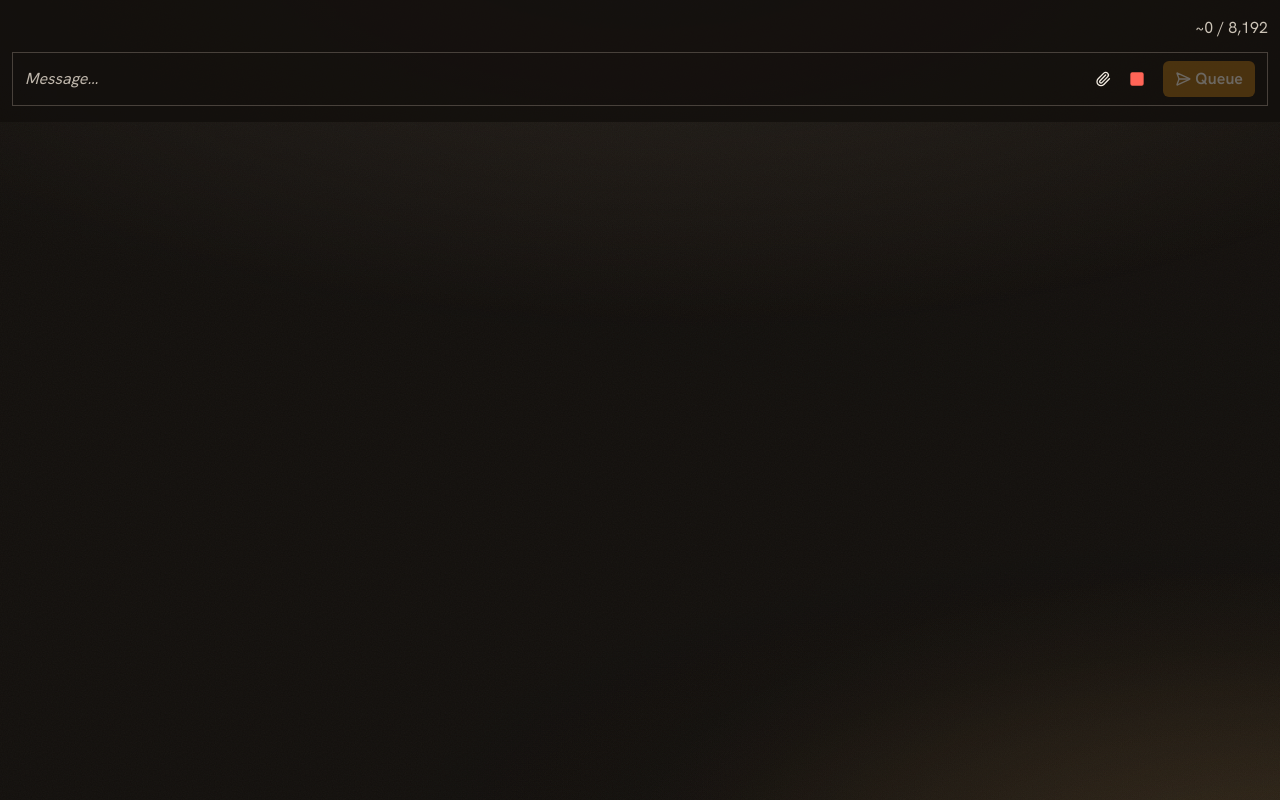
Test: Composer message queue (streaming submit) › supports at least one queued message via a small FIFO queue (two messages queue in order)
Type "first" into the text box labelled "Message" at x=556, y=79, box [25, 59, 1087, 99]
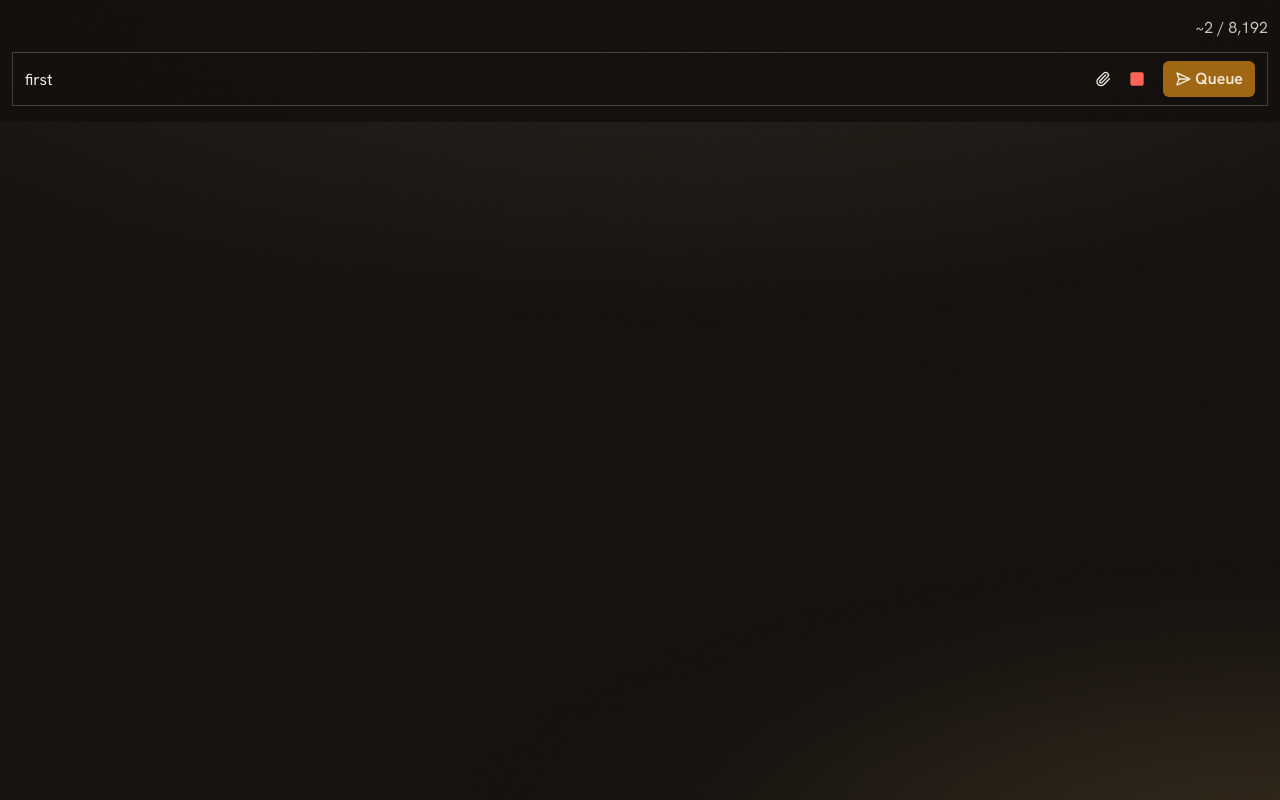
Press Enter in the text box named "Message", box [25, 60, 1087, 98]
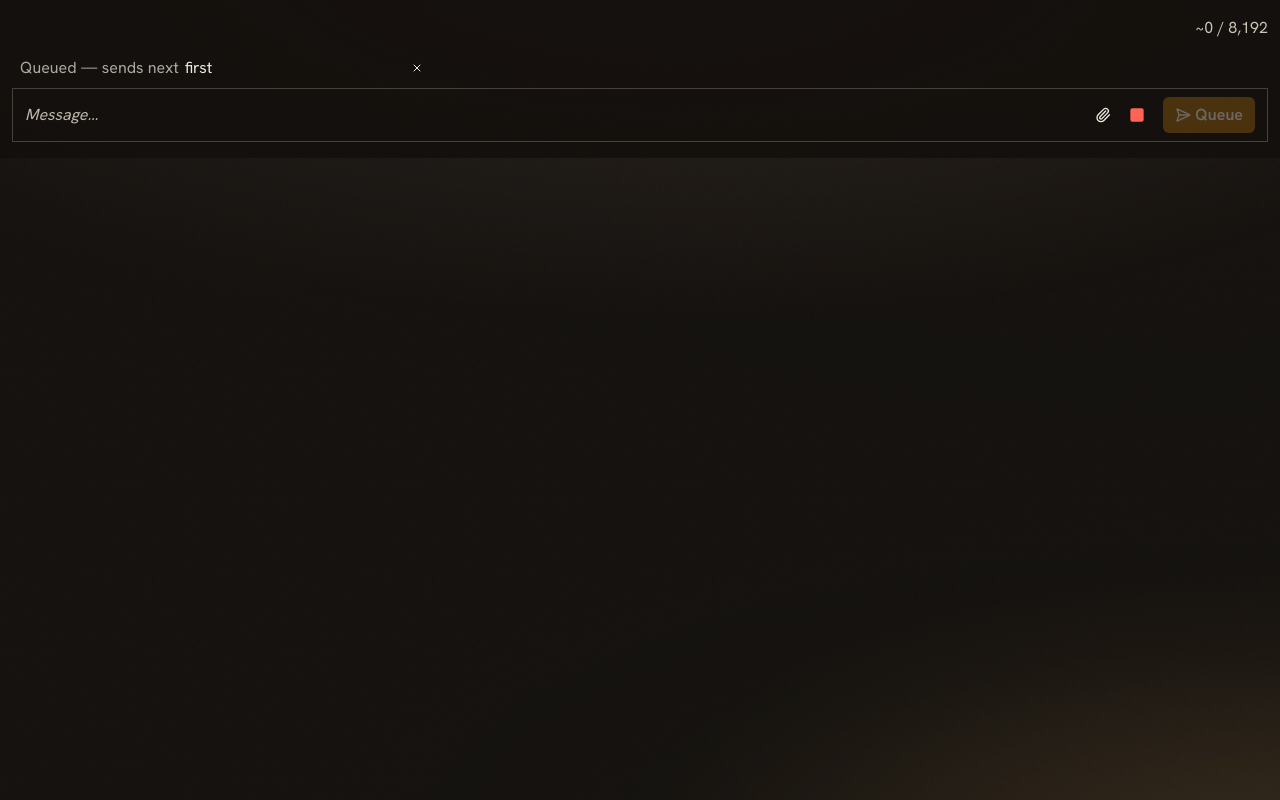
Type "second" into the text box labelled "Message" at x=556, y=115, box [25, 95, 1087, 135]
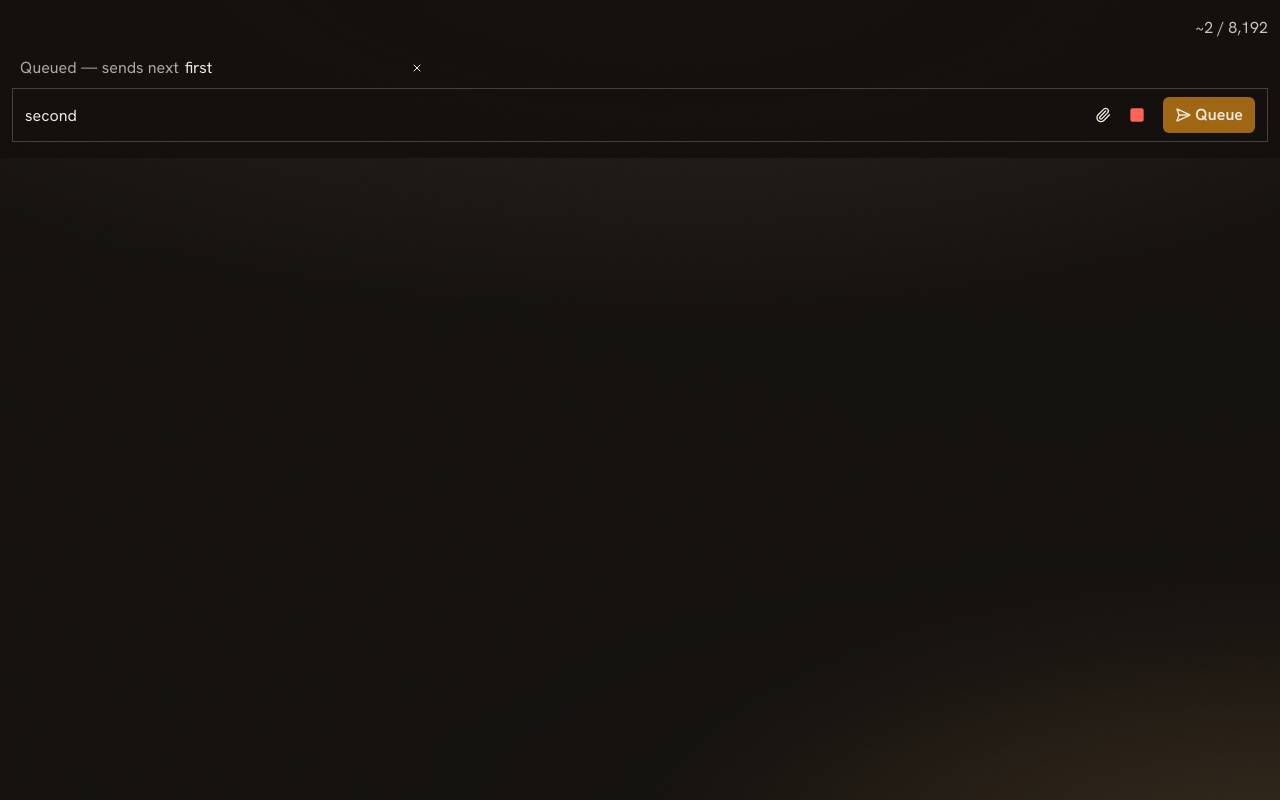
Press Enter in the text box named "Message", box [25, 96, 1087, 134]
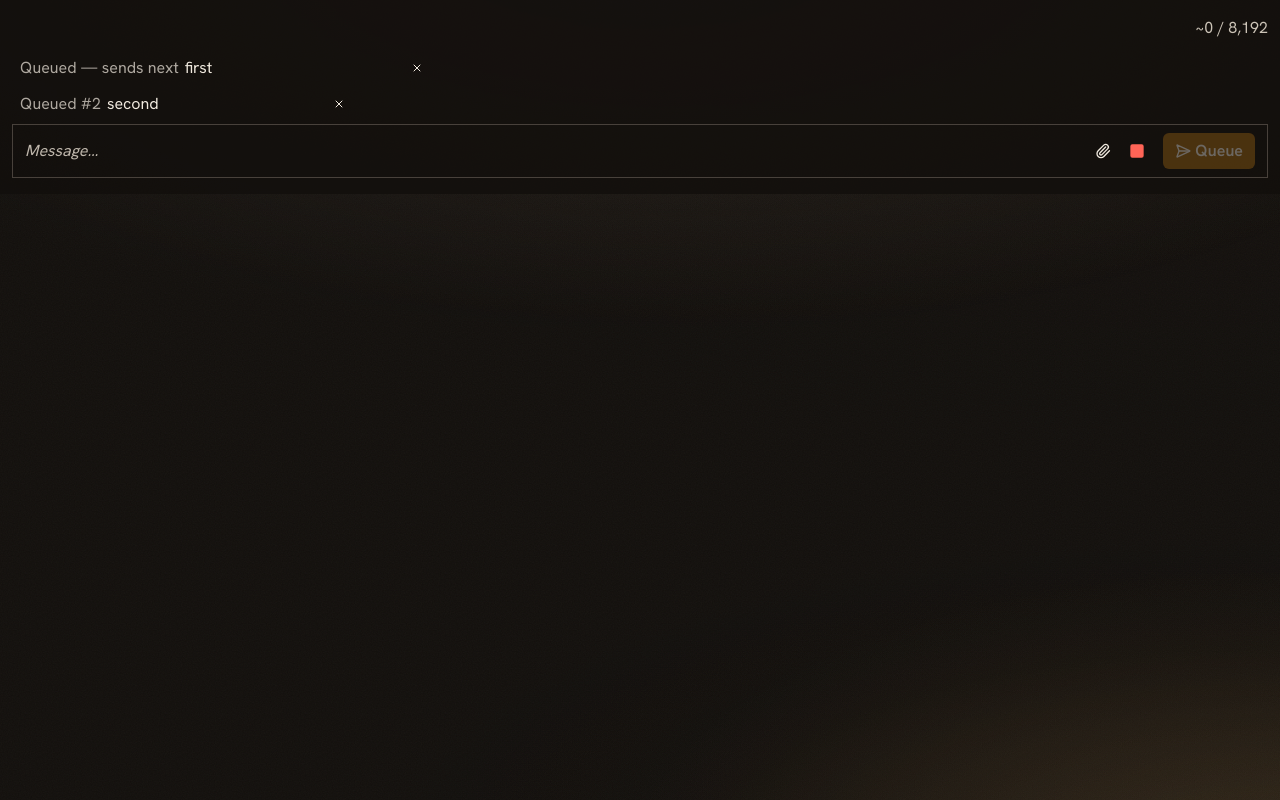
Result: the list item with test id "composer-queue-item" shows "first" at [185, 57, 212, 78]
Result: the number of list items with test id "composer-queue-item" is 2 at [20, 57, 423, 78]; [20, 93, 345, 114]
Result: the list item with test id "composer-queue-item" shows "second" at [107, 93, 159, 114]
